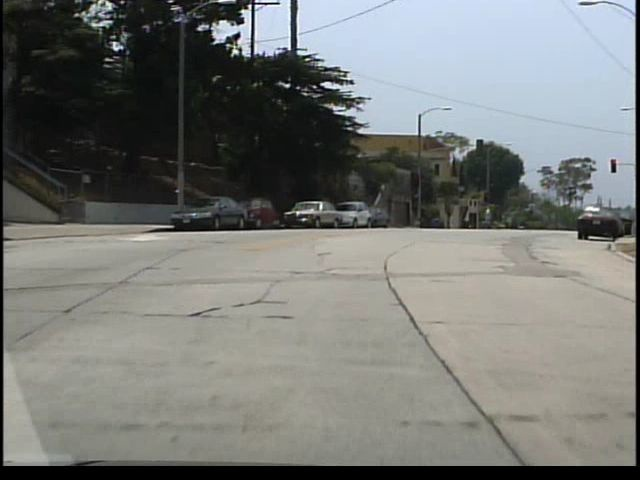person: (488, 206, 495, 229)
